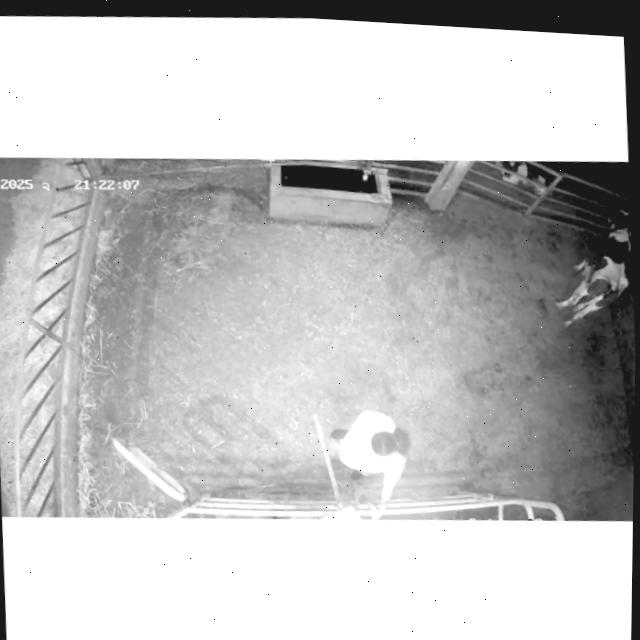stand: (533, 196, 637, 338)
